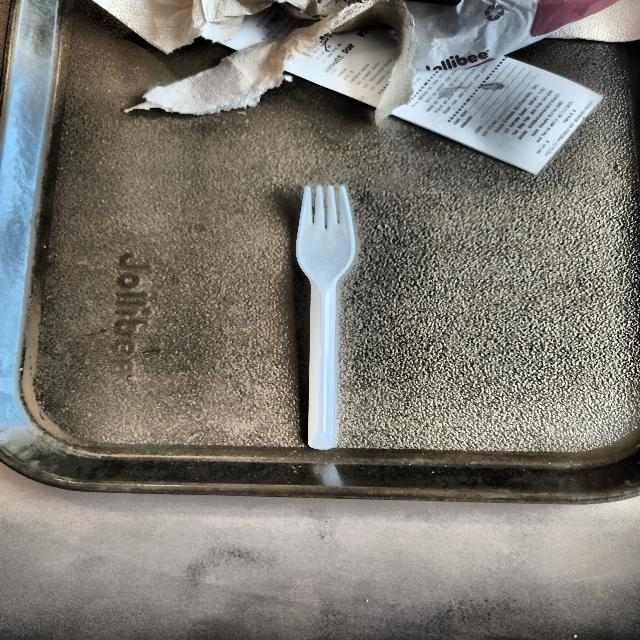plastic utensil: (297, 185, 355, 449)
